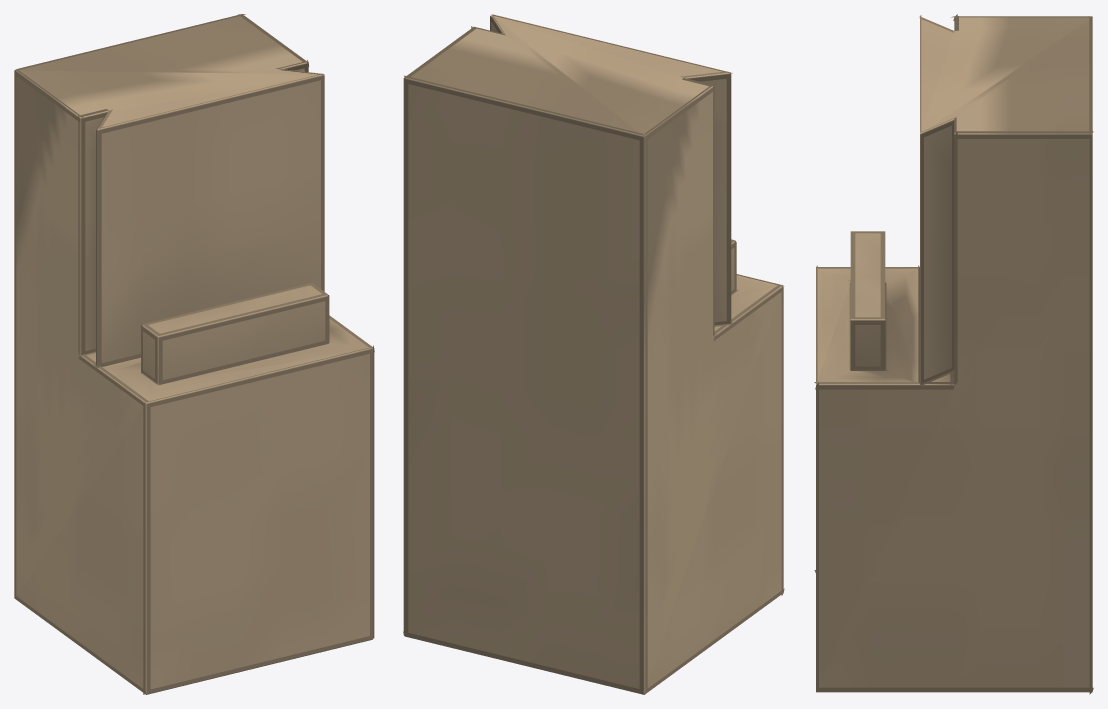
The picture shows the model from 3 angles, left to right: view 1: azimuth 30°, elevation 25°; view 2: azimuth 150°, elevation 25°; view 3: azimuth 270°, elevation 25°; orthographic projection. The views are drawn at different scales.
Parts seen in each view (by area): view 1: part-a; view 2: part-a; view 3: part-a.
Boxes of the visible parts, x1,y1,x2,y2 form: part-a: (14, 14, 374, 694); part-a: (403, 14, 784, 694); part-a: (814, 14, 1093, 694).
Size of the model in its own units: 0.0925 by 0.2022 by 0.0911.
